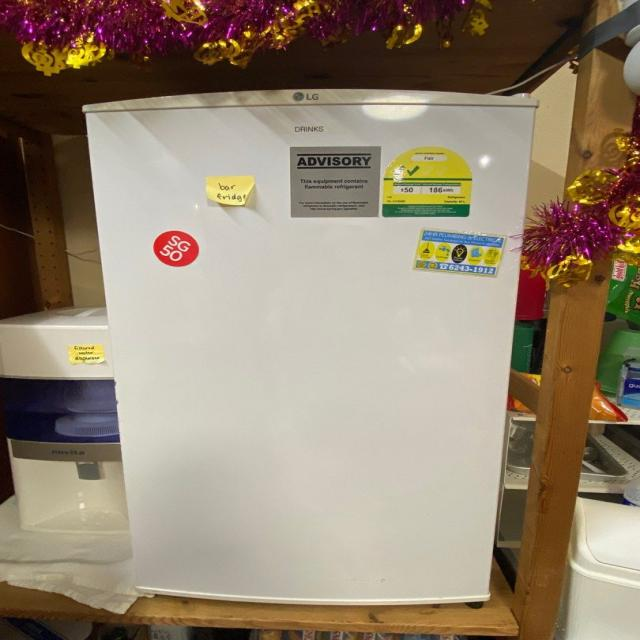refrigerator: (85, 89, 542, 603)
